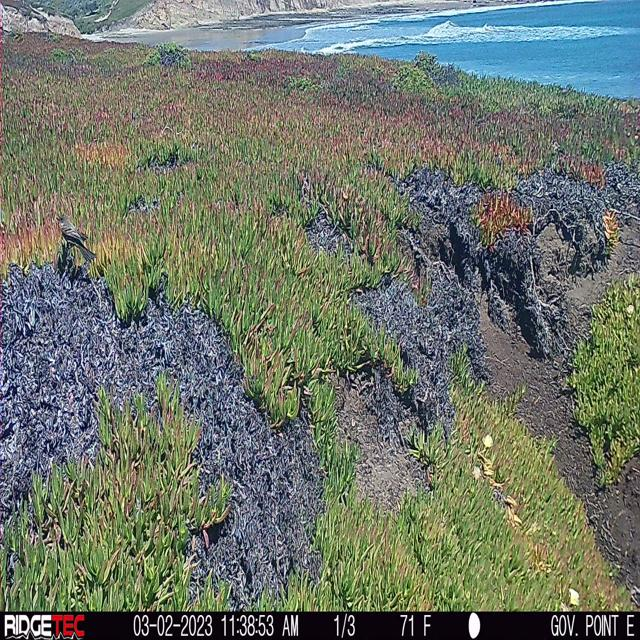bird: (54, 214, 97, 262)
